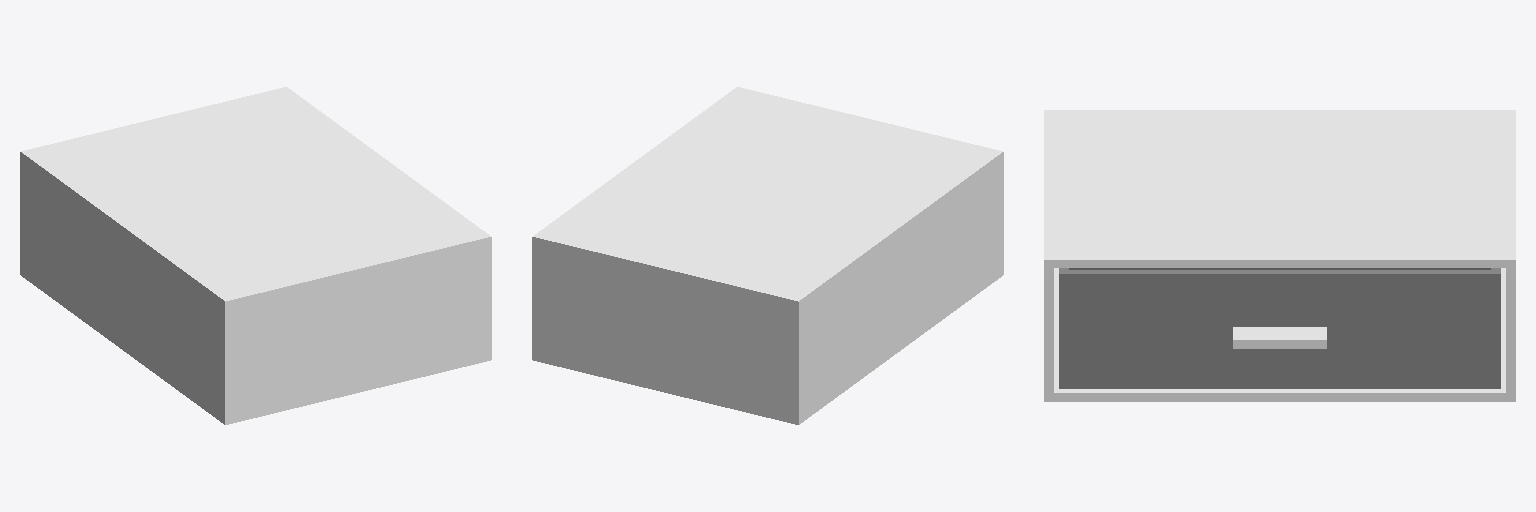
URDF robot description (drawer):
<?xml version="1.0" ?>
<!-- =================================================================================== -->
<!-- |    This document was autogenerated by xacro from drawer_one_sided_handle.xacro  | -->
<!-- |    EDITING THIS FILE BY HAND IS NOT RECOMMENDED                                 | -->
<!-- =================================================================================== -->
<robot name="drawer" xmlns:xacro="http://ros.org/wiki/xacro">
  <material name="omni/Blue">
    <color rgba="0 0 0.8 1"/>
  </material>
  <material name="omni/Red">
    <color rgba="1 0 0 1"/>
  </material>
  <material name="omni/White">
    <color rgba="1 1 1 1"/>
  </material>
  <material name="omni/Green">
    <color rgba="0 1 0 1"/>
  </material>
  <material name="omni/Yellow">
    <color rgba="1 1 0 1"/>
  </material>
  <material name="omni/LightGrey">
    <color rgba="0.6 0.6 0.6 1"/>
  </material>
  <material name="omni/DarkGrey">
    <color rgba="0.4 0.4 0.4 1"/>
  </material>


<!--  (17.5, 34, 8), (4, 1.5, <0.5)-->
<!--  (70, 96, 32), (16, 6, 2)-->
<!--  (69, 90, 26)-->

  <link name="base_link">
    </link>

  <link name="drawer">
    </link>

<!--  <link name="drawer">-->
<!--    <visual>-->
<!--      <origin rpy="0 0 0" xyz="0 0 0"/>-->
<!--      <geometry>-->
<!--        <box size="0.4 0.6 0.3"/>-->
<!--      </geometry>-->
<!--      <material name="omni/LightGrey"/>-->
<!--    </visual>-->
<!--    <collision>-->
<!--      <origin rpy="0 0 0" xyz="0 0 0"/>-->
<!--      <geometry>-->
<!--        <box size="0.4 0.6 0.3"/>-->
<!--      </geometry>-->
<!--      <contact_coefficients mu="0.0"/>-->
<!--    </collision>-->
<!--    <inertial>-->
<!--      &lt;!&ndash; CENTER OF MASS &ndash;&gt;-->
<!--      <origin rpy="0 0 0" xyz="0 0 0"/>-->
<!--      <mass value="0.1"/>-->
<!--      &lt;!&ndash; box inertia: 1/12*m(y^2+z^2), ... &ndash;&gt;-->
<!--      <inertia ixx="1e-3" ixy="0" ixz="0" iyy="1e-3" iyz="0" izz="1e-3"/>-->
<!--    </inertial>-->
<!--  </link>-->
  <joint name="base_drawer_joint" type="prismatic">
    <origin rpy="0 0 0" xyz="0 0 0"/>
    <parent link="base_link"/>
    <child link="drawer"/>
    <dynamics damping="0.5" friction="0.1"/>
    <limit effort="0.1" lower="0.0" upper="0.5" velocity="10.0"/>
    <axis xyz="1 0 0"/>
  </joint>

  <link name="drawer_bottom">
    <visual>
      <origin rpy="0 0 0" xyz="0 0 0"/>
      <geometry>
        <box size="0.65 0.86 0.02"/>
      </geometry>
      <material name="omni/DarkGrey"/>
    </visual>
    <collision>
      <origin rpy="0 0 0" xyz="0 0 0"/>
      <geometry>
        <box size="0.65 0.86 0.02"/>
      </geometry>
      <contact_coefficients mu="0.0"/>
    </collision>
    <inertial>
      <!-- CENTER OF MASS -->
      <origin rpy="0 0 0" xyz="0 0 0"/>
      <mass value="0.02"/>
      <!-- box inertia: 1/12*m(y^2+z^2), ... -->
      <inertia ixx="1e-3" ixy="0" ixz="0" iyy="1e-3" iyz="0" izz="1e-3"/>
    </inertial>
  </link>
  <joint name="db_2_d" type="fixed">
    <origin rpy="0 0 0" xyz="0 0 -0.12"/>
    <parent link="drawer"/>
    <child link="drawer_bottom"/>
  </joint>

  <link name="drawer_left">
    <visual>
      <origin rpy="0 0 0" xyz="0 0 0"/>
      <geometry>
        <box size="0.65 0.02 0.26"/>
      </geometry>
      <material name="omni/LightGrey"/>
    </visual>
    <collision>
      <origin rpy="0 0 0" xyz="0 0 0"/>
      <geometry>
        <box size="0.65 0.02 0.26"/>
      </geometry>
      <contact_coefficients mu="0.0"/>
    </collision>
    <inertial>
      <!-- CENTER OF MASS -->
      <origin rpy="0 0 0" xyz="0 0 0"/>
      <mass value="0.02"/>
      <!-- box inertia: 1/12*m(y^2+z^2), ... -->
      <inertia ixx="1e-3" ixy="0" ixz="0" iyy="1e-3" iyz="0" izz="1e-3"/>
    </inertial>
  </link>
  <joint name="dl_2_d" type="fixed">
    <origin rpy="0 0 0" xyz="0 -0.44 0"/>
    <parent link="drawer"/>
    <child link="drawer_left"/>
  </joint>

  <link name="drawer_right">
    <visual>
      <origin rpy="0 0 0" xyz="0 0 0"/>
      <geometry>
        <box size="0.65 0.02 0.26"/>
      </geometry>
      <material name="omni/LightGrey"/>
    </visual>
    <collision>
      <origin rpy="0 0 0" xyz="0 0 0"/>
      <geometry>
        <box size="0.65 0.02 0.26"/>
      </geometry>
      <contact_coefficients mu="0.0"/>
    </collision>
    <inertial>
      <!-- CENTER OF MASS -->
      <origin rpy="0 0 0" xyz="0 0 0"/>
      <mass value="0.02"/>
      <!-- box inertia: 1/12*m(y^2+z^2), ... -->
      <inertia ixx="1e-3" ixy="0" ixz="0" iyy="1e-3" iyz="0" izz="1e-3"/>
    </inertial>
  </link>
  <joint name="dr_2_d" type="fixed">
    <origin rpy="0 0 0" xyz="0 0.44 0"/>
    <parent link="drawer"/>
    <child link="drawer_right"/>
  </joint>

  <link name="drawer_front">
    <visual>
      <origin rpy="0 0 0" xyz="0 0 0"/>
      <geometry>
        <box size="0.02 0.90 0.26"/>
      </geometry>
      <material name="omni/LightGrey"/>
    </visual>
    <collision>
      <origin rpy="0 0 0" xyz="0 0 0"/>
      <geometry>
        <box size="0.02 0.90 0.26"/>
      </geometry>
      <contact_coefficients mu="0.0"/>
    </collision>
    <inertial>
      <!-- CENTER OF MASS -->
      <origin rpy="0 0 0" xyz="0 0 0"/>
      <mass value="0.02"/>
      <!-- box inertia: 1/12*m(y^2+z^2), ... -->
      <inertia ixx="1e-3" ixy="0" ixz="0" iyy="1e-3" iyz="0" izz="1e-3"/>
    </inertial>
  </link>
  <joint name="df_2_d" type="fixed">
    <origin rpy="0 0 0" xyz="0.335 0 0"/>
    <parent link="drawer"/>
    <child link="drawer_front"/>
  </joint>

  <link name="drawer_back">
    <visual>
      <origin rpy="0 0 0" xyz="0 0 0"/>
      <geometry>
        <box size="0.02 0.90 0.26"/>
      </geometry>
      <material name="omni/LightGrey"/>
    </visual>
    <collision>
      <origin rpy="0 0 0" xyz="0 0 0"/>
      <geometry>
        <box size="0.02 0.90 0.26"/>
      </geometry>
      <contact_coefficients mu="0.0"/>
    </collision>
    <inertial>
      <!-- CENTER OF MASS -->
      <origin rpy="0 0 0" xyz="0 0 0"/>
      <mass value="0.02"/>
      <!-- box inertia: 1/12*m(y^2+z^2), ... -->
      <inertia ixx="1e-3" ixy="0" ixz="0" iyy="1e-3" iyz="0" izz="1e-3"/>
    </inertial>
  </link>
  <joint name="dbk_2_d" type="fixed">
    <origin rpy="0 0 0" xyz="-0.335 0 0"/>
    <parent link="drawer"/>
    <child link="drawer_back"/>
  </joint>

  <link name="left_wall">
    <visual>
      <origin rpy="0 0 0" xyz="0 0 0"/>
      <geometry>
        <box size="0.70 0.02 0.28"/>
      </geometry>
      <material name="omni/White"/>
    </visual>
    <collision>
      <origin rpy="0 0 0" xyz="0 0 0.0"/>
      <geometry>
        <box size="0.70 0.02 0.28"/>
      </geometry>
    </collision>
    <inertial>
      <!-- CENTER OF MASS -->
      <origin rpy="0 0 0" xyz="0 0 0"/>
      <mass value="0.05"/>
      <!-- box inertia: 1/12*m(y^2+z^2), ... -->
      <inertia ixx="1e-3" ixy="0" ixz="0" iyy="1e-3" iyz="0" izz="1e-3"/>
    </inertial>
  </link>
  <joint name="b_2_lw" type="fixed">
    <origin rpy="0 0 0" xyz="-0.01 -0.47 0"/>
    <parent link="base_link"/>
    <child link="left_wall"/>
  </joint>
  <link name="right_wall">
    <visual>
      <origin rpy="0 0 0" xyz="0 0 0"/>
      <geometry>
        <box size="0.70 0.02 0.28"/>
      </geometry>
      <material name="omni/White"/>
    </visual>
    <collision>
      <origin rpy="0 0 0" xyz="0 0 0.0"/>
      <geometry>
        <box size="0.70 0.02 0.28"/>
      </geometry>
    </collision>
    <inertial>
      <!-- CENTER OF MASS -->
      <origin rpy="0 0 0" xyz="0 0 0"/>
      <mass value="0.05"/>
      <!-- box inertia: 1/12*m(y^2+z^2), ... -->
      <inertia ixx="1e-3" ixy="0" ixz="0" iyy="1e-3" iyz="0" izz="1e-3"/>
    </inertial>
  </link>
  <joint name="b_2_rw" type="fixed">
    <origin rpy="0 0 0" xyz="-0.01 0.47 0"/>
    <parent link="base_link"/>
    <child link="right_wall"/>
  </joint>
  <link name="bottom_wall">
    <visual>
      <origin rpy="0 0 0" xyz="0 0 0"/>
      <geometry>
        <box size="0.70 0.96 0.02"/>
      </geometry>
      <material name="omni/White"/>
    </visual>
    <collision>
      <origin rpy="0 0 0" xyz="0 0 0.0"/>
      <geometry>
        <box size="0.70 0.96 0.02"/>
      </geometry>
    </collision>
    <inertial>
      <!-- CENTER OF MASS -->
      <origin rpy="0 0 0" xyz="0 0 0"/>
      <mass value="0.05"/>
      <!-- box inertia: 1/12*m(y^2+z^2), ... -->
      <inertia ixx="1e-3" ixy="0" ixz="0" iyy="1e-3" iyz="0" izz="1e-3"/>
    </inertial>
  </link>
  <joint name="b_2_bw" type="fixed">
    <origin rpy="0 0 0" xyz="-0.01 0 -0.15"/>
    <parent link="base_link"/>
    <child link="bottom_wall"/>
  </joint>
  <link name="top_wall">
    <visual>
      <origin rpy="0 0 0" xyz="0 0 0"/>
      <geometry>
        <box size="0.70 0.96 0.02"/>
      </geometry>
      <material name="omni/White"/>
    </visual>
    <collision>
      <origin rpy="0 0 0" xyz="0 0 0.0"/>
      <geometry>
        <box size="0.70 0.96 0.02"/>
      </geometry>
    </collision>
    <inertial>
      <!-- CENTER OF MASS -->
      <origin rpy="0 0 0" xyz="0 0 0"/>
      <mass value="0.05"/>
      <!-- box inertia: 1/12*m(y^2+z^2), ... -->
      <inertia ixx="1e-3" ixy="0" ixz="0" iyy="1e-3" iyz="0" izz="1e-3"/>
    </inertial>
  </link>
  <joint name="b_2_tw" type="fixed">
    <origin rpy="0 0 0" xyz="-0.01 0 0.15"/>
    <parent link="base_link"/>
    <child link="top_wall"/>
  </joint>
  <link name="back_wall">
    <visual>
      <origin rpy="0 0 0" xyz="0 0 0"/>
      <geometry>
        <box size="0.02 0.96 0.32"/>
      </geometry>
      <material name="omni/White"/>
    </visual>
    <collision>
      <origin rpy="0 0 0" xyz="0 0 0.0"/>
      <geometry>
        <box size="0.02 0.96 0.32"/>
      </geometry>
    </collision>
    <inertial>
      <!-- CENTER OF MASS -->
      <origin rpy="0 0 0" xyz="0 0 0"/>
      <mass value="0.05"/>
      <!-- box inertia: 1/12*m(y^2+z^2), ... -->
      <inertia ixx="1e-3" ixy="0" ixz="0" iyy="1e-3" iyz="0" izz="1e-3"/>
    </inertial>
  </link>
  <joint name="b_2_backw" type="fixed">
    <origin rpy="0 0 0" xyz="-0.37 0 0"/>
    <parent link="base_link"/>
    <child link="back_wall"/>
  </joint>

  <link name="handle">
    <visual>
      <origin rpy="0 0 0" xyz="0 0 0"/>
      <geometry>
        <box size="0.06 0.19 0.02"/>
      </geometry>
      <material name="omni/White"/>
    </visual>
    <collision>
      <origin rpy="0 0 0" xyz="0 0 0.0"/>
      <geometry>
        <box size="0.06 0.19 0.02"/>
      </geometry>
    </collision>
    <inertial>
      <!-- CENTER OF MASS -->
      <origin rpy="0 0 0" xyz="0 0 0"/>
      <mass value="0.05"/>
      <!-- box inertia: 1/12*m(y^2+z^2), ... -->
      <inertia ixx="0.0001" ixy="0" ixz="0" iyy="0.0001" iyz="0" izz="0.0001"/>
    </inertial>
  </link>
  <joint name="d_2_hd" type="fixed">
    <origin rpy="0 0 0" xyz="0.375 0 0"/>
    <parent link="drawer"/>
    <child link="handle"/>
  </joint>


<!--  <link name="handle_left">-->
<!--    <visual>-->
<!--      <origin rpy="0 0 0" xyz="0 0 0"/>-->
<!--      <geometry>-->
<!--        <box size="0.04 0.02 0.02"/>-->
<!--      </geometry>-->
<!--      <material name="omni/White"/>-->
<!--    </visual>-->
<!--    <collision>-->
<!--      <origin rpy="0 0 0" xyz="0 0 0.0"/>-->
<!--      <geometry>-->
<!--        <box size="0.04 0.02 0.02"/>-->
<!--      </geometry>-->
<!--    </collision>-->
<!--    <inertial>-->
<!--      &lt;!&ndash; CENTER OF MASS &ndash;&gt;-->
<!--      <origin rpy="0 0 0" xyz="0 0 0"/>-->
<!--      <mass value="0.05"/>-->
<!--      &lt;!&ndash; box inertia: 1/12*m(y^2+z^2), ... &ndash;&gt;-->
<!--      <inertia ixx="2e-05" ixy="0" ixz="0" iyy="0.0001" iyz="0" izz="0.0001"/>-->
<!--    </inertial>-->
<!--  </link>-->
<!--  <joint name="d_2_hl" type="fixed">-->
<!--    <origin rpy="0 0 0" xyz="0.365 -0.07 0"/>-->
<!--    <parent link="drawer"/>-->
<!--    <child link="handle_left"/>-->
<!--  </joint>-->
<!--  <link name="handle_right">-->
<!--    <visual>-->
<!--      <origin rpy="0 0 0" xyz="0 0 0"/>-->
<!--      <geometry>-->
<!--        <box size="0.04 0.02 0.02"/>-->
<!--      </geometry>-->
<!--      <material name="omni/White"/>-->
<!--    </visual>-->
<!--    <collision>-->
<!--      <origin rpy="0 0 0" xyz="0 0 0.0"/>-->
<!--      <geometry>-->
<!--        <box size="0.04 0.02 0.02"/>-->
<!--      </geometry>-->
<!--    </collision>-->
<!--    <inertial>-->
<!--      &lt;!&ndash; CENTER OF MASS &ndash;&gt;-->
<!--      <origin rpy="0 0 0" xyz="0 0 0"/>-->
<!--      <mass value="0.05"/>-->
<!--      &lt;!&ndash; box inertia: 1/12*m(y^2+z^2), ... &ndash;&gt;-->
<!--      <inertia ixx="2e-05" ixy="0" ixz="0" iyy="0.0001" iyz="0" izz="0.0001"/>-->
<!--    </inertial>-->
<!--  </link>-->
<!--  <joint name="d_2_hr" type="fixed">-->
<!--    <origin rpy="0 0 0" xyz="0.365 0.07 0"/>-->
<!--    <parent link="drawer"/>-->
<!--    <child link="handle_right"/>-->
<!--  </joint>-->
<!--  <link name="handle_grip">-->
<!--    <visual>-->
<!--      <origin rpy="0 0 0" xyz="0 0 0"/>-->
<!--      <geometry>-->
<!--        <box size="0.02 0.19 0.02"/>-->
<!--      </geometry>-->
<!--      <material name="omni/White"/>-->
<!--    </visual>-->
<!--    <collision>-->
<!--      <origin rpy="0 0 0" xyz="0 0 0.0"/>-->
<!--      <geometry>-->
<!--        <box size="0.02 0.16 0.02"/>-->
<!--      </geometry>-->
<!--    </collision>-->
<!--    <inertial>-->
<!--      &lt;!&ndash; CENTER OF MASS &ndash;&gt;-->
<!--      <origin rpy="0 0 0" xyz="0 0 0"/>-->
<!--      <mass value="0.05"/>-->
<!--      &lt;!&ndash; box inertia: 1/12*m(y^2+z^2), ... &ndash;&gt;-->
<!--      <inertia ixx="0.0009125" ixy="0" ixz="0" iyy="2e-05" iyz="0" izz="0.0009125"/>-->
<!--    </inertial>-->
<!--  </link>-->
<!--  <joint name="d_2_hg" type="fixed">-->
<!--    <origin rpy="0 0 0" xyz="0.395 0 0"/>-->
<!--    <parent link="drawer"/>-->
<!--    <child link="handle_grip"/>-->
<!--  </joint>-->

  
<!--  <link name="handle_top_cover">-->
<!--    <visual>-->
<!--      <origin rpy="0 0 0" xyz="0 0 0"/>-->
<!--      <geometry>-->
<!--        &lt;!&ndash; <box size="${handle_gap + handle_thickness} ${handle_span + 2 * handle_thickness} ${handle_thickness * 20}"/> &ndash;&gt;-->
<!--        <box size="0.08 0.19 0.006"/>-->
<!--      </geometry>-->
<!--      <material name="omni/White"/>-->
<!--    </visual>-->
<!--    <collision>-->
<!--      <origin rpy="0 0 0" xyz="0 0 0.0"/>-->
<!--      <geometry>-->
<!--        <box size="0.08 0.19 0.006"/>-->
<!--      </geometry>-->
<!--      <contact_coefficients mu="0.0"/>-->
<!--    </collision>-->
<!--    <inertial>-->
<!--      <origin rpy="0 0 0" xyz="0 0 0"/>-->
<!--      <mass value="0.05"/>-->
<!--      <inertia ixx="0.0009125" ixy="0" ixz="0" iyy="0.0001" iyz="0" izz="0.0009925"/>-->
<!--    </inertial>-->
<!--  </link>-->
<!--  <joint name="d_2_htc" type="fixed">-->
<!--    <origin rpy="0 0 0" xyz="0.24 0 -0.043"/>-->
<!--    <parent link="drawer"/>-->
<!--    <child link="handle_top_cover"/>-->
<!--  </joint>-->
<!--  <link name="handle_bottom_cover">-->
<!--    <visual>-->
<!--      <origin rpy="0 0 0" xyz="0 0 0"/>-->
<!--      <geometry>-->
<!--        &lt;!&ndash; <box size="${handle_gap + handle_thickness} ${handle_span + 2 * handle_thickness} ${handle_thickness * 20}"/> &ndash;&gt;-->
<!--        <box size="0.006 0.19 0.113136"/>-->
<!--      </geometry>-->
<!--      <material name="omni/White"/>-->
<!--    </visual>-->
<!--    <collision>-->
<!--      <origin rpy="0 0 0" xyz="0 0 0.0"/>-->
<!--      <geometry>-->
<!--        <box size="0.006 0.19 0.113136"/>-->
<!--      </geometry>-->
<!--      <contact_coefficients mu="0.0"/>-->
<!--    </collision>-->
<!--    <inertial>-->
<!--      <origin rpy="0 0 0" xyz="0 0 0"/>-->
<!--      <mass value="0.05"/>-->
<!--      <inertia ixx="0.0009125" ixy="0" ixz="0" iyy="0.0001" iyz="0" izz="0.0009925"/>-->
<!--    </inertial>-->
<!--  </link>-->
<!--  <joint name="d_2_hbc" type="fixed">-->
<!--    <origin rpy="0 0.78539816339 0" xyz="-0.001 0 -0.04"/>-->
<!--    <parent link="handle_top_cover"/>-->
<!--    <child link="handle_bottom_cover"/>-->
<!--  </joint>-->
</robot>

--- Facts derived from the render (not from the file) ---
3 views of the same robot in one strip: view 1: azimuth 30°, elevation 25°; view 2: azimuth 150°, elevation 25°; view 3: azimuth 270°, elevation 25° (orthographic).
Robot: drawer — 13 links, 12 joints (1 prismatic, 11 fixed); root link base_link; default pose: every joint at zero.
Visible links, largest first — view 1: top_wall, left_wall, back_wall, bottom_wall; view 2: top_wall, right_wall, back_wall, bottom_wall; view 3: top_wall, drawer_front, bottom_wall, handle, back_wall, left_wall, right_wall, drawer_bottom.
Boxes of the visible links, x1=… form: top_wall: x1=29, y1=87, x2=491, y2=306; left_wall: x1=233, y1=244, x2=491, y2=415; back_wall: x1=20, y1=150, x2=232, y2=424; bottom_wall: x1=233, y1=353, x2=491, y2=422; top_wall: x1=532, y1=87, x2=994, y2=306; right_wall: x1=532, y1=244, x2=790, y2=415; back_wall: x1=791, y1=150, x2=1003, y2=424; bottom_wall: x1=532, y1=353, x2=790, y2=422; top_wall: x1=1044, y1=114, x2=1515, y2=267; drawer_front: x1=1059, y1=270, x2=1500, y2=388; bottom_wall: x1=1044, y1=268, x2=1515, y2=401; handle: x1=1233, y1=327, x2=1326, y2=348; back_wall: x1=1044, y1=110, x2=1515, y2=113; left_wall: x1=1044, y1=268, x2=1053, y2=392; right_wall: x1=1506, y1=268, x2=1515, y2=392; drawer_bottom: x1=1069, y1=268, x2=1490, y2=269.
Bounding box of the posed robot: 0.785 × 0.96 × 0.32 m (x, y, z).
Geometry: primitives only (box / cylinder / sphere), no mesh files.